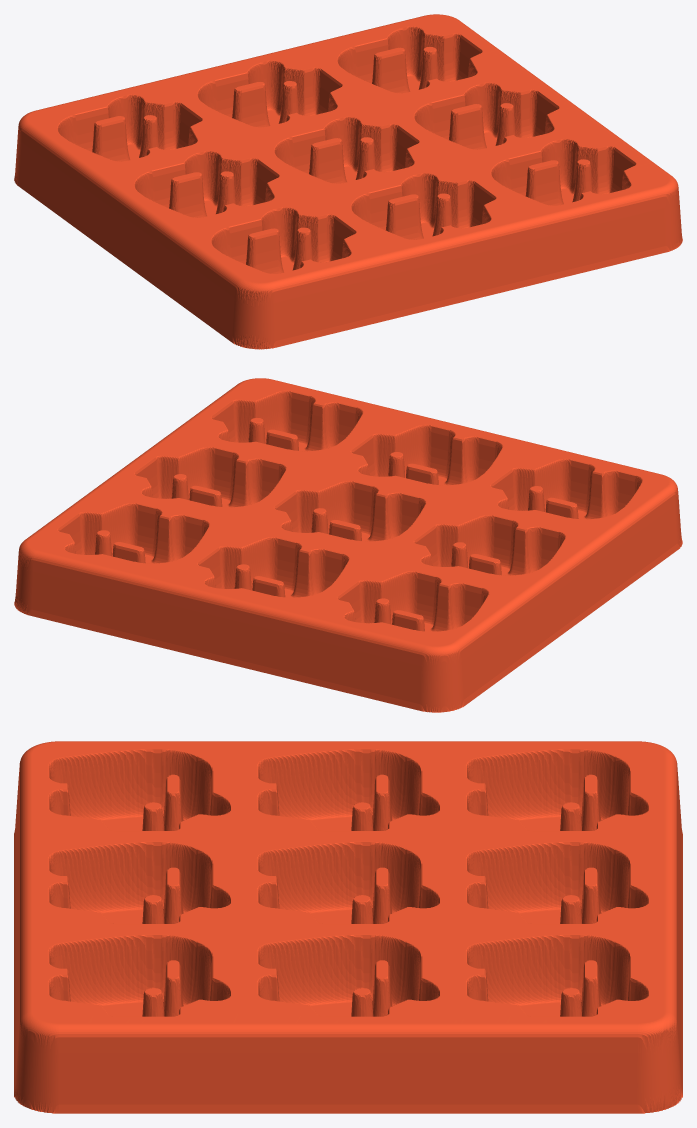
Rendered from mold.glb.
3 views of the same model, one above another, from view 1: azimuth 30°, elevation 25°; view 2: azimuth 150°, elevation 25°; view 3: azimuth 270°, elevation 25° (orthographic). The views are drawn at different scales.
Parts seen in each view (by area): view 1: geometry_0; view 2: geometry_0; view 3: geometry_0.
Boxes of the visible parts, x1,y1,x2,y2 form: geometry_0: [14, 14, 682, 349]; geometry_0: [14, 378, 682, 712]; geometry_0: [14, 741, 682, 1113].
Size of the model in its own units: 0.1402 by 0.0182 by 0.1338.
